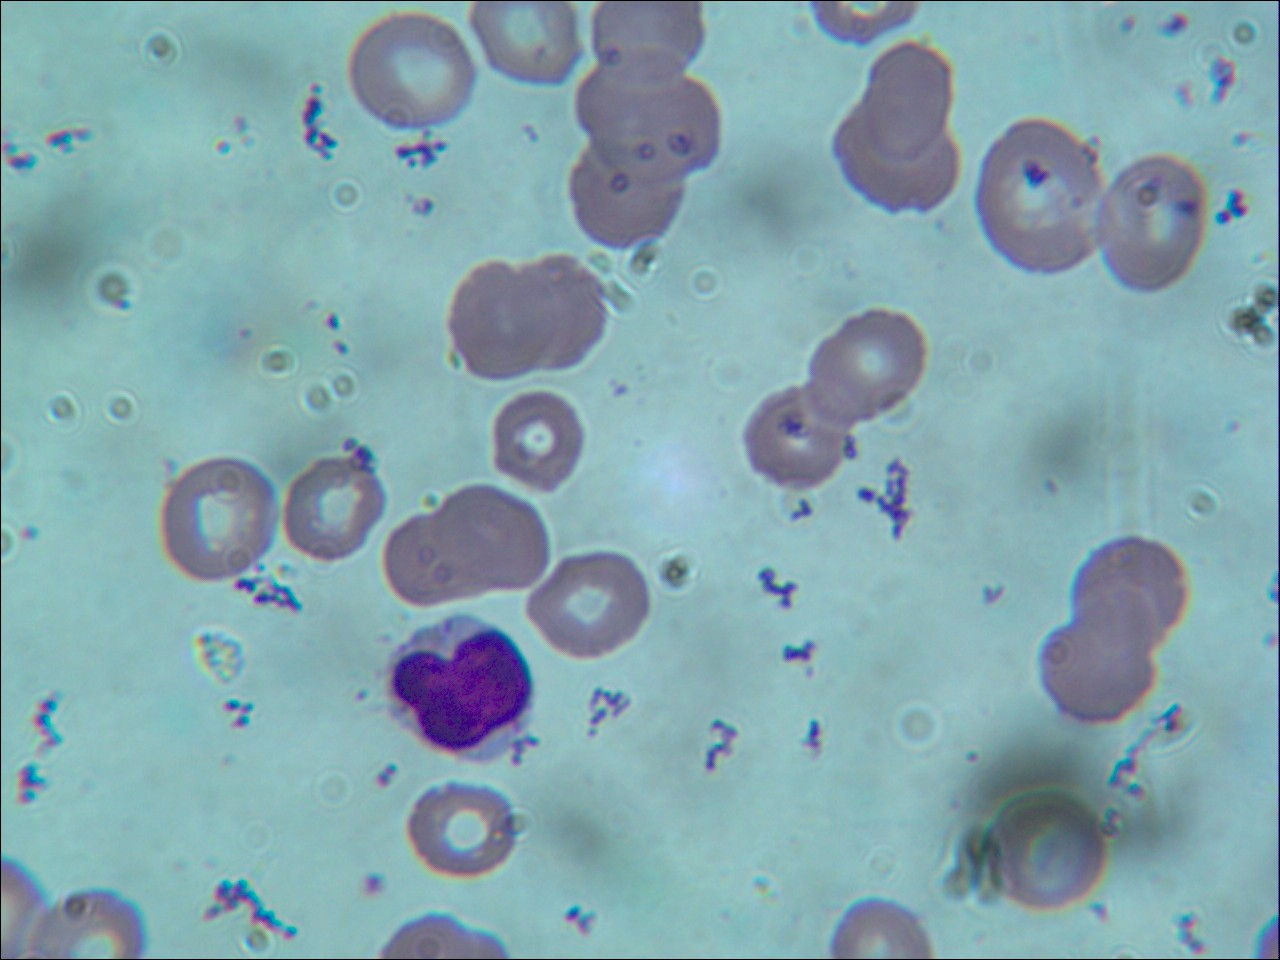Eritrosit: (974, 121, 1109, 275), (577, 58, 727, 186), (346, 8, 481, 131), (1096, 152, 1206, 296), (159, 455, 281, 584), (983, 789, 1109, 911), (833, 105, 964, 222), (440, 259, 555, 380), (570, 137, 689, 253), (436, 484, 553, 599), (278, 453, 390, 571), (530, 549, 652, 655), (815, 311, 927, 424), (508, 252, 611, 372), (742, 381, 849, 496), (1036, 625, 1155, 725), (462, 2, 584, 97), (1083, 542, 1189, 646), (406, 783, 517, 880), (862, 43, 953, 158), (380, 511, 489, 608), (490, 387, 575, 496), (589, 1, 705, 78), (15, 896, 146, 960)
Limfosit: (386, 614, 530, 761)
Platelet: (352, 869, 396, 909), (608, 371, 643, 415), (973, 580, 1011, 617), (400, 193, 440, 222), (559, 905, 600, 934), (1020, 156, 1056, 189), (228, 321, 261, 355), (1225, 125, 1259, 158), (1089, 897, 1120, 933), (1167, 77, 1198, 111), (330, 339, 367, 367), (224, 112, 255, 143), (1117, 17, 1150, 44), (17, 518, 48, 547), (324, 303, 350, 334), (346, 681, 374, 709), (1034, 469, 1062, 496), (1218, 412, 1246, 440), (518, 117, 543, 146), (1167, 9, 1196, 33), (374, 767, 403, 790), (961, 744, 987, 765)
